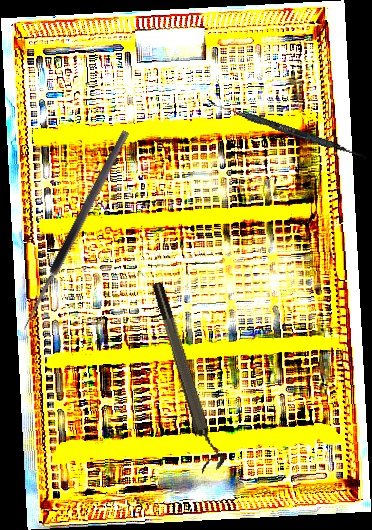Fixation Ring: (148, 278, 228, 474)
Hook Surgical: (19, 128, 140, 338)
Spatula Surgical: (204, 99, 369, 160)
